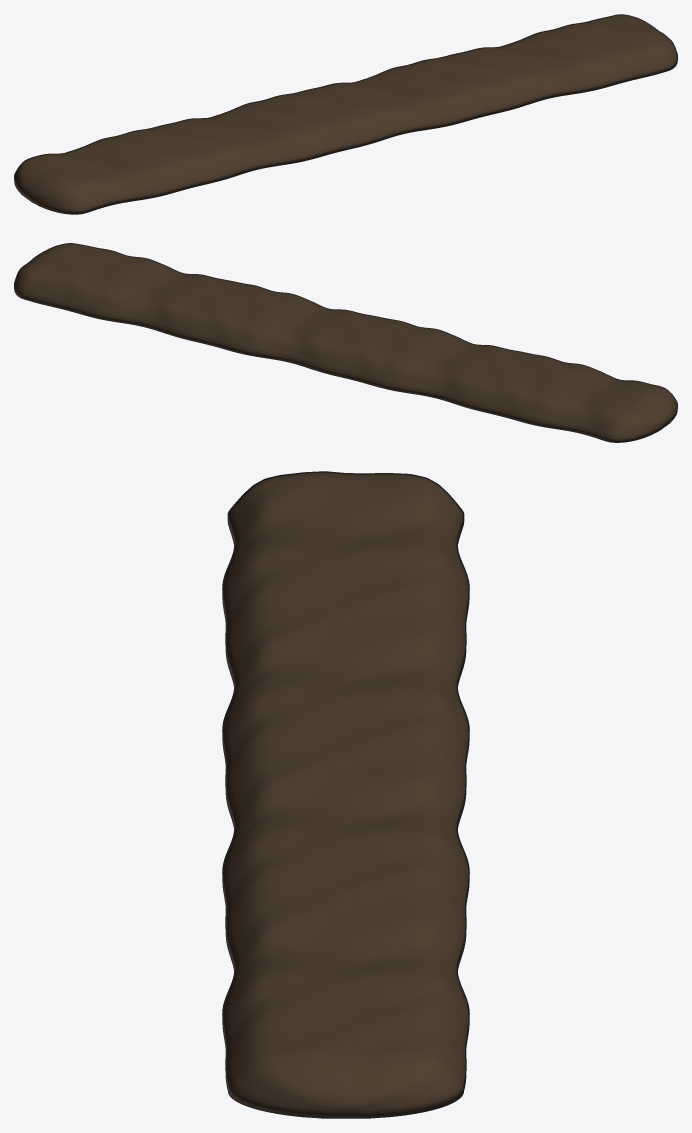
Rendered from growbed.fbx.
3 views of the same model, one above another, from view 1: azimuth 30°, elevation 25°; view 2: azimuth 150°, elevation 25°; view 3: azimuth 270°, elevation 25° (orthographic). The views are drawn at different scales.
Parts seen in each view (by area): view 1: GrowBed_Tile, GrowBed_Copy_0, GrowBed_Copy_1, GrowBed_Tile.001, GrowBed_End_Left, GrowBed_End_Right; view 2: GrowBed_Copy_0, GrowBed_Tile, GrowBed_Tile.001, GrowBed_Copy_1, GrowBed_End_Left, GrowBed_End_Right; view 3: GrowBed_Copy_1, GrowBed_Tile, GrowBed_Copy_0, GrowBed_Tile.001, GrowBed_End_Right, GrowBed_End_Left.
Part boxes in pixels (bbox=[...]): GrowBed_Tile: bbox=[322, 50, 520, 142]; GrowBed_Copy_0: bbox=[31, 121, 229, 213]; GrowBed_Copy_1: bbox=[467, 15, 665, 106]; GrowBed_Tile.001: bbox=[176, 86, 375, 177]; GrowBed_End_Left: bbox=[14, 157, 84, 214]; GrowBed_End_Right: bbox=[612, 14, 677, 71]; GrowBed_Copy_0: bbox=[462, 350, 660, 441]; GrowBed_Tile: bbox=[171, 279, 369, 370]; GrowBed_Tile.001: bbox=[316, 314, 514, 406]; GrowBed_Copy_1: bbox=[26, 244, 224, 335]; GrowBed_End_Left: bbox=[607, 386, 677, 442]; GrowBed_End_Right: bbox=[14, 243, 78, 299]; GrowBed_Copy_1: bbox=[222, 906, 469, 1091]; GrowBed_Tile: bbox=[222, 764, 469, 949]; GrowBed_Copy_0: bbox=[222, 480, 469, 665]; GrowBed_Tile.001: bbox=[222, 622, 469, 807]; GrowBed_End_Right: bbox=[228, 1048, 463, 1118]; GrowBed_End_Left: bbox=[227, 471, 464, 523].
Bounding box in the file's own units: 1757 × 60.29 × 295.
